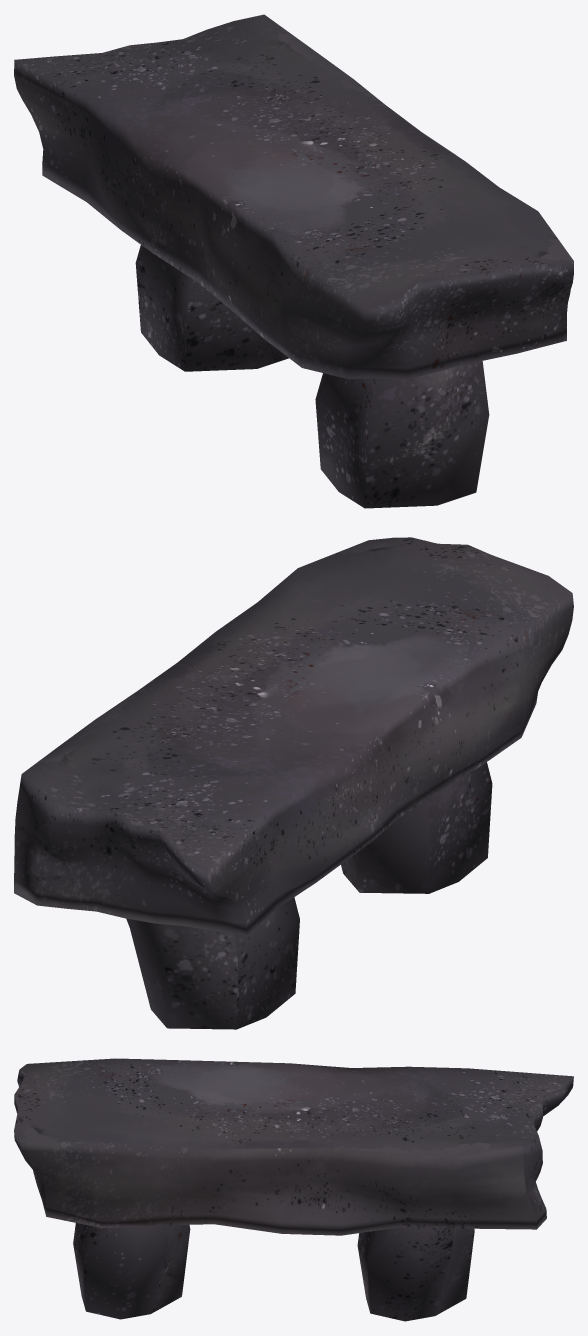
The model's file is Bench.fbx.
3 views of the same model, one above another, from view 1: azimuth 30°, elevation 25°; view 2: azimuth 150°, elevation 25°; view 3: azimuth 270°, elevation 25° (orthographic). The views are drawn at different scales.
Visible parts, largest first — view 1: Merged_QCube1; view 2: Merged_QCube1; view 3: Merged_QCube1.
Boxes of the visible parts, x1,y1,x2,y2 form: Merged_QCube1: [14, 14, 573, 508]; Merged_QCube1: [14, 537, 573, 1029]; Merged_QCube1: [14, 1058, 573, 1321].
Size of the model in its own units: 1.83 by 1.83 by 4.46.
